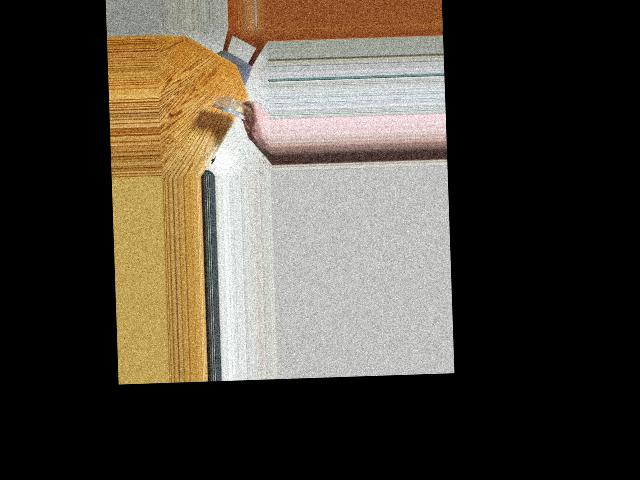cheese: (210, 95, 257, 121)
